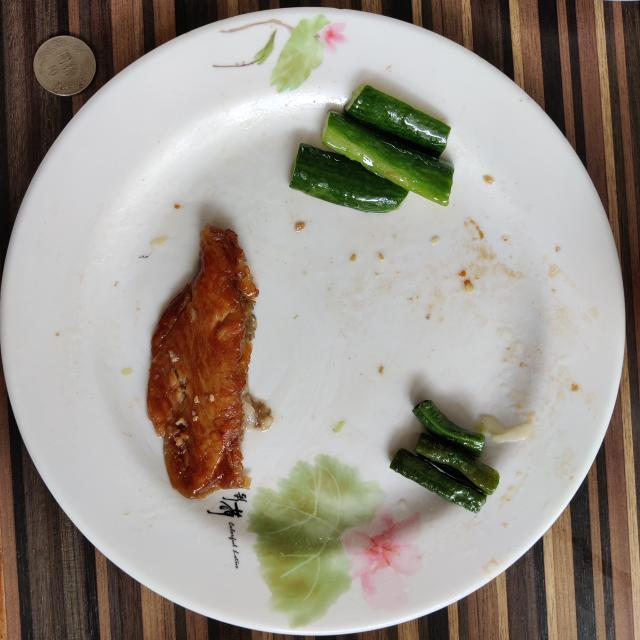Kabayaki sea bream fillet: (148, 225, 274, 499)
coin: (34, 35, 96, 96)
cucumber: (290, 85, 454, 212)
